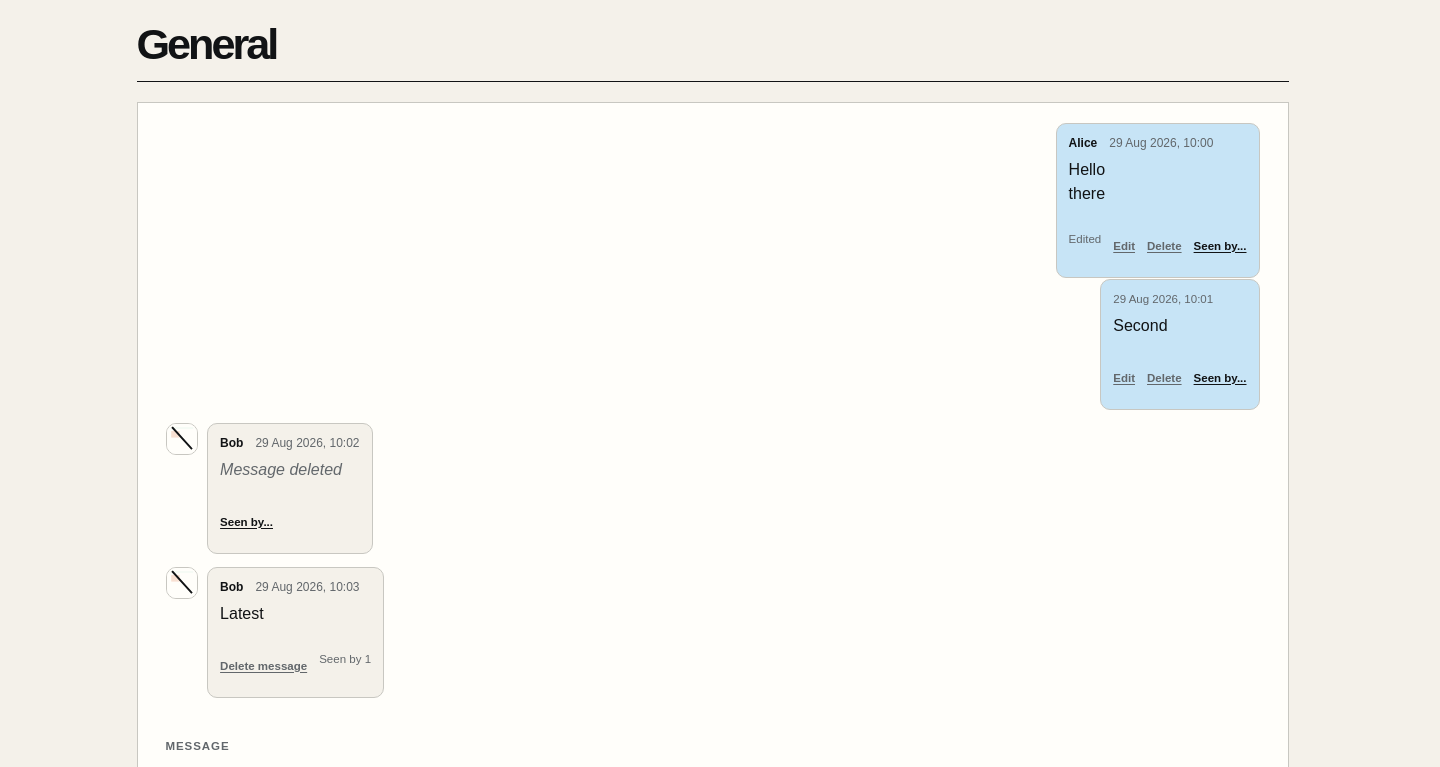
Test: ChatPanel › keeps Edit mode open and shows the error after a failed save
Click the button "Edit" next to "Edited".
click(1124, 246)  # box [1113,226,1135,266]
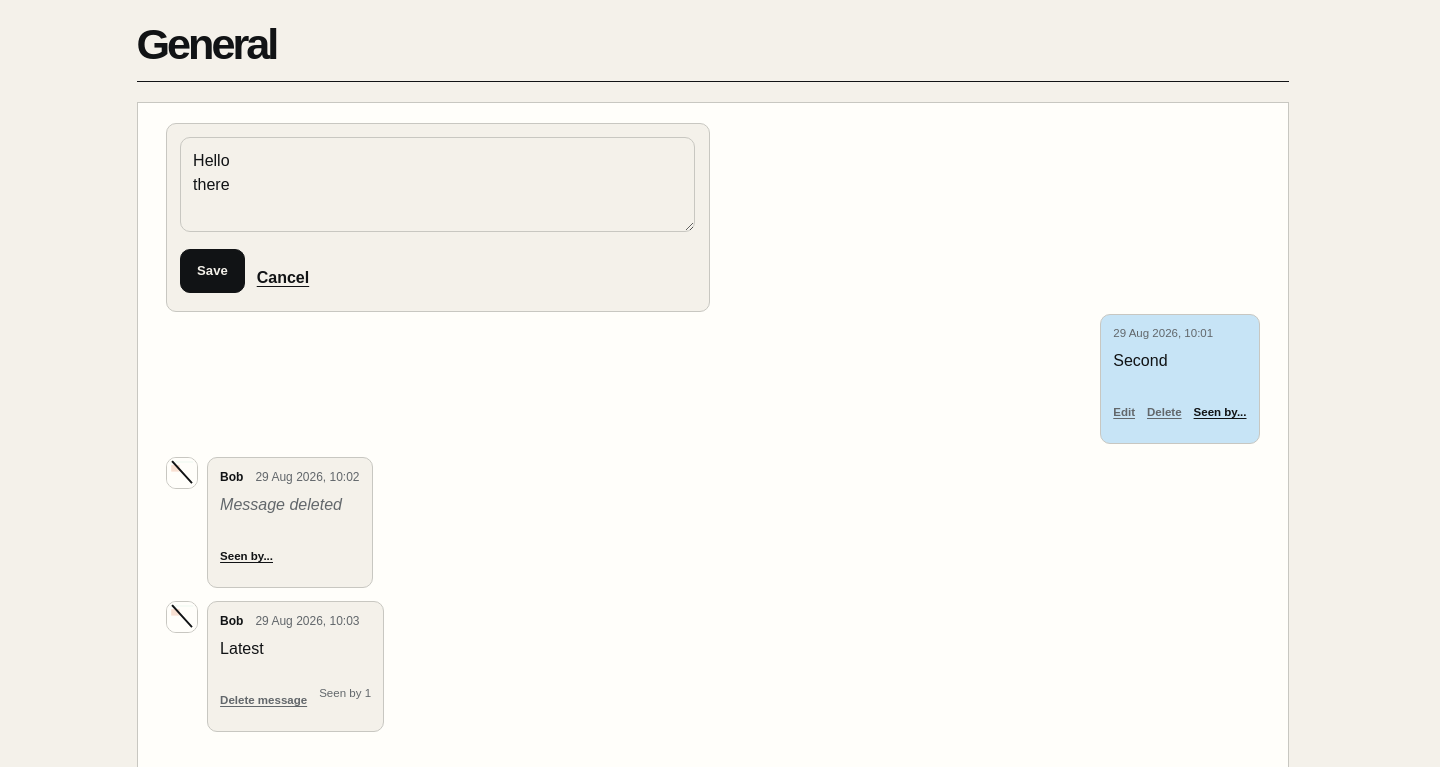
Replace the text in the text box named "Edit message" with "Draft message" at (438, 185), box [180,137,695,232]
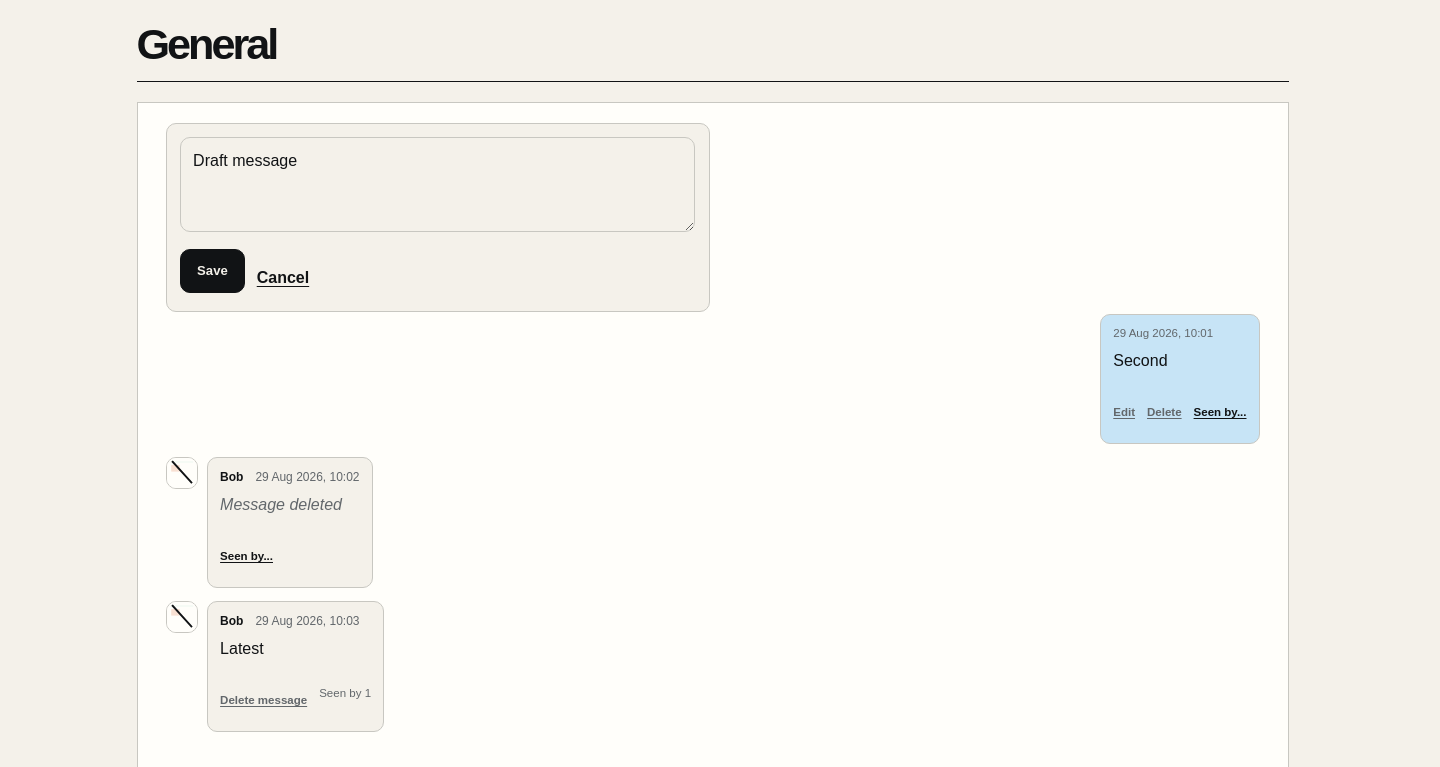
Submit the form named "Edit message", box [166,123,710,312]
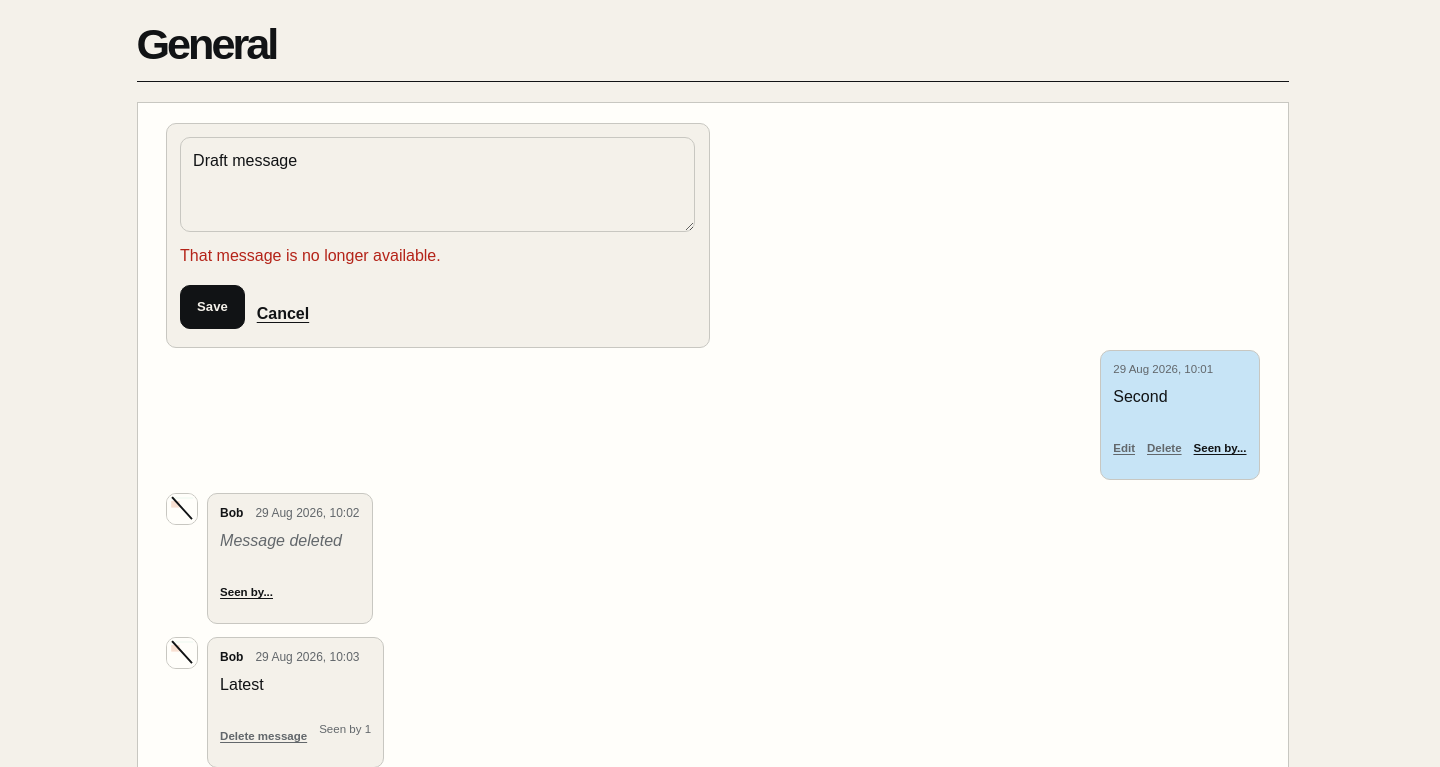
Expected: the message reads "That message is no longer available.", [180,247,441,264]
